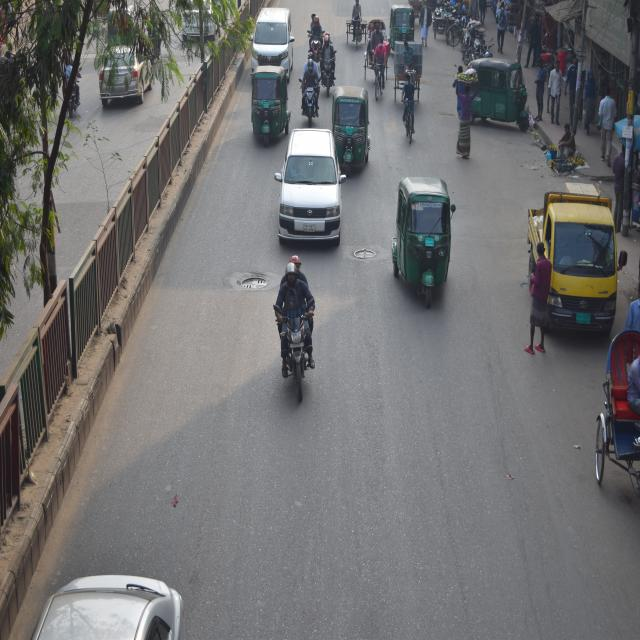car: (98, 42, 158, 112)
microbus: (250, 1, 295, 80)
motorbike: (267, 270, 324, 408), (298, 69, 319, 122), (321, 42, 338, 107), (306, 21, 324, 68)
pickup-van: (520, 170, 626, 338)
